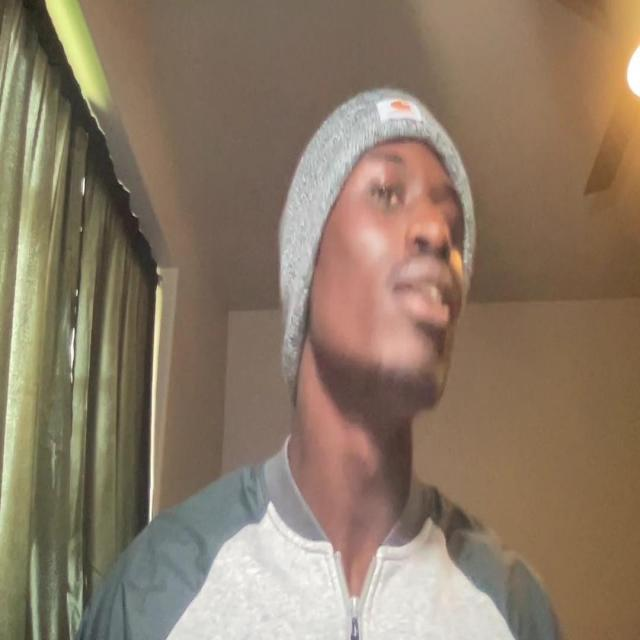face: (275, 85, 479, 415)
